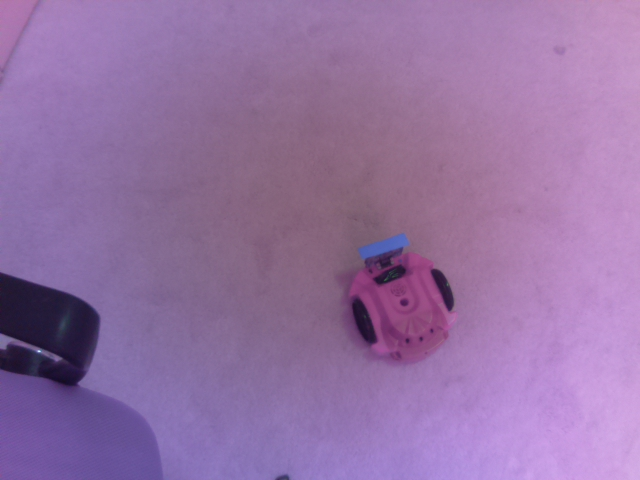board: (358, 233, 411, 274)
chassis: (346, 231, 460, 362)
